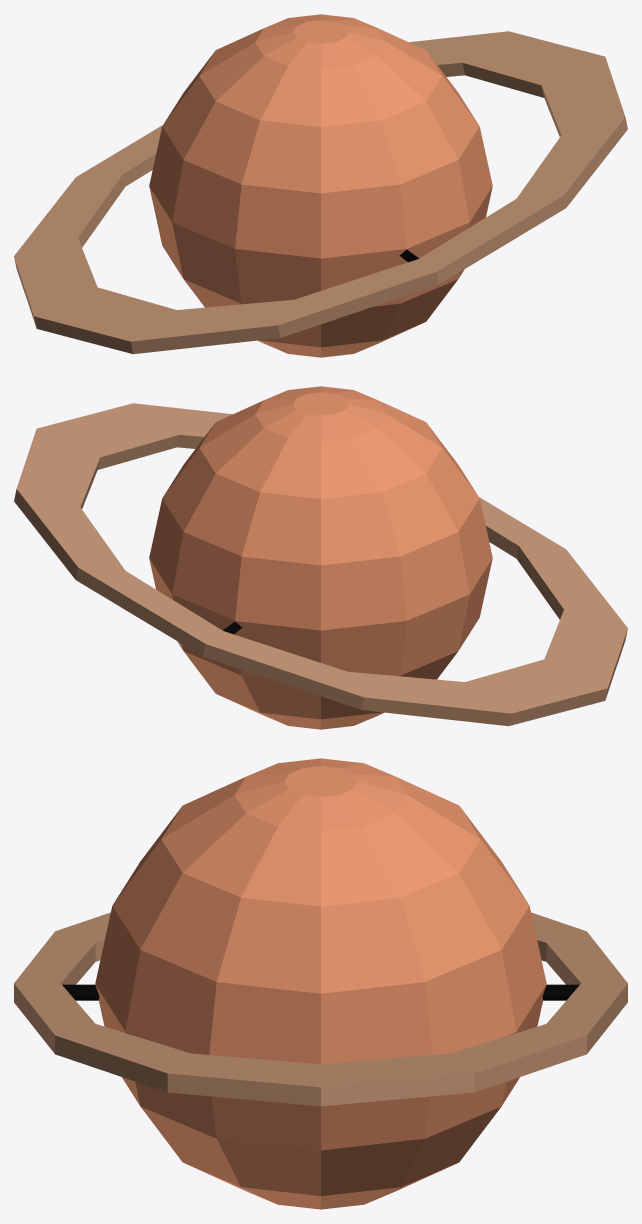
File: Planet1.fbx
The picture shows the model from 3 angles, top to bottom: view 1: azimuth 30°, elevation 25°; view 2: azimuth 150°, elevation 25°; view 3: azimuth 270°, elevation 25°; orthographic projection. The views are drawn at different scales.
Visible parts, largest first — view 1: Planet1; view 2: Planet1; view 3: Planet1.
Boxes of the visible parts, x1=… form: Planet1: x1=14, y1=14, x2=627, y2=357; Planet1: x1=14, y1=386, x2=627, y2=729; Planet1: x1=14, y1=758, x2=627, y2=1209.
Bounding box in the file's own units: 386 × 198 × 272.
